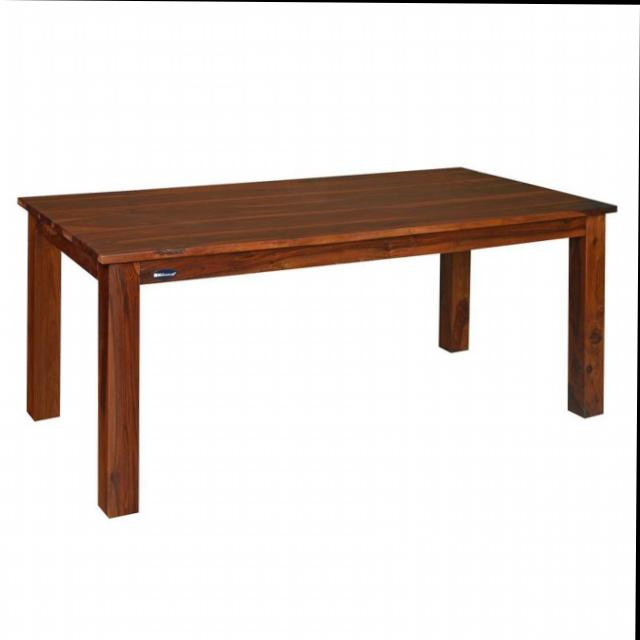Table: (15, 146, 624, 550)
